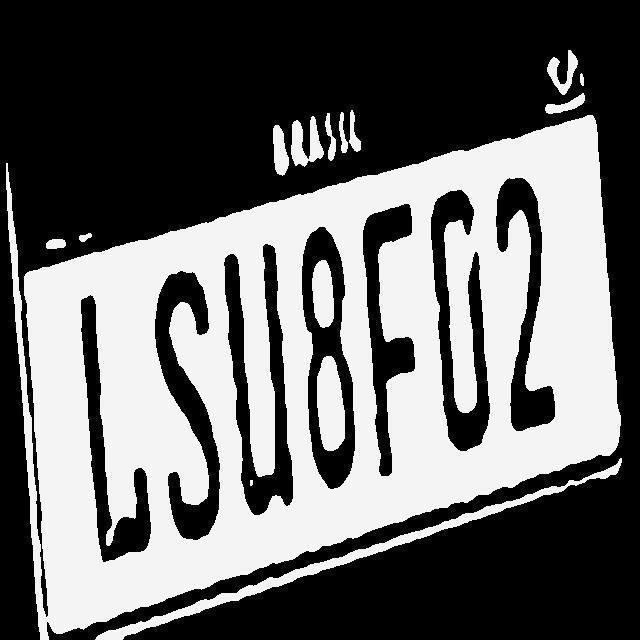0: (420, 189, 494, 457)
2: (493, 171, 567, 429)
8: (298, 227, 362, 500)
f: (356, 202, 416, 484)
l: (74, 290, 156, 571)
s: (151, 260, 220, 541)
u: (222, 238, 298, 516)
